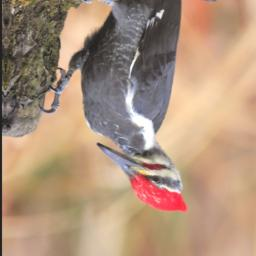Woodpecker: (35, 0, 191, 214)
